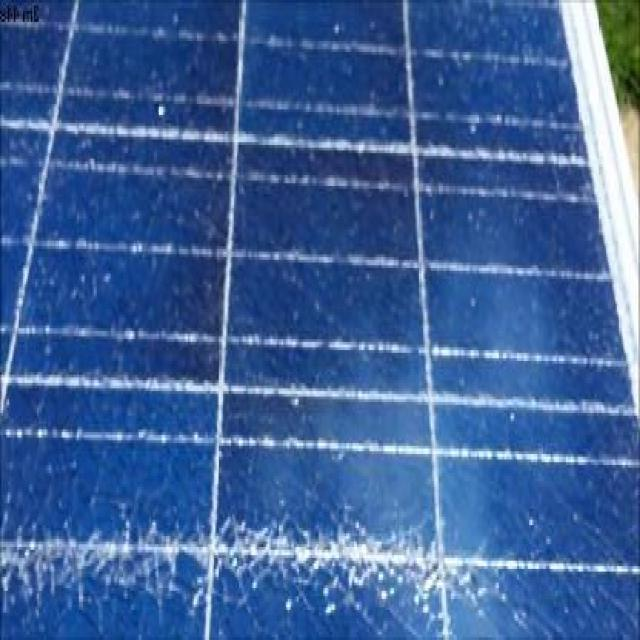cracked: (3, 5, 623, 621)
